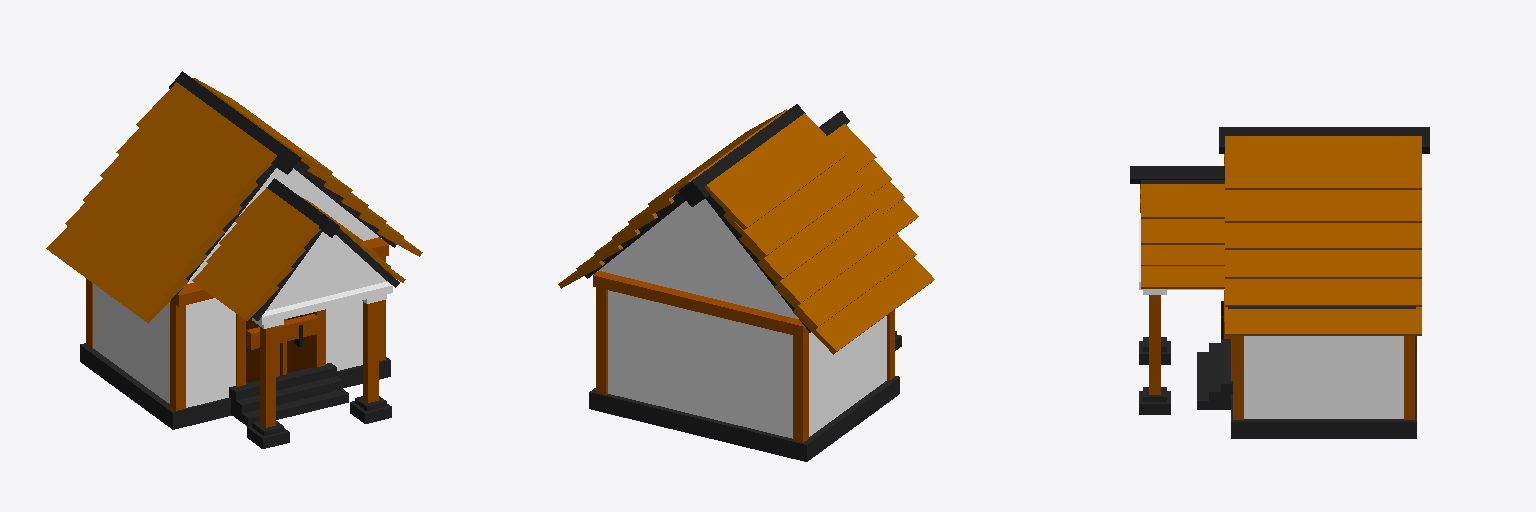
The model's file is dungeon.obj.
3 renders of one model, left to right at view 1: azimuth 30°, elevation 25°; view 2: azimuth 150°, elevation 25°; view 3: azimuth 270°, elevation 25°, orthographic.
Parts seen in each view (by area): view 1: pCube35 group3 group5, pCube22, pCube5, group3 group5 pCube36, group1 pPrism1, group3 group5 pCube40, pCube4, group3 group5 pCube38, pCube26, group3 group5 pCube39, group3 group5 pCube37, pCube35 group3 group6 (+22 smaller); view 2: pCube27, group2 pPrism2, pCube35 group3 group5, pCube26, pCube22, group3 group5 pCube36, group3 group5 pCube40, group3 group5 pCube38, group3 group5 pCube39, group3 group5 pCube37, group2 pCube10, group2 pCube21 (+10 smaller); view 3: pCube25, group5 pCube35 group4, group5 group4 pCube36, group5 group4 pCube38, group5 group4 pCube40, group5 group4 pCube39, group5 group4 pCube37, pCube26, group6 pCube35 group4, pCube4, group6 group4 pCube36, group2 pCube21 (+7 smaller).
Part boxes in pixels (left/top/right/bottom): pCube35 group3 group5: left=136, top=82, right=276, bottom=198; pCube22: left=93, top=284, right=169, bottom=403; pCube5: left=186, top=298, right=235, bottom=407; group3 group5 pCube36: left=116, top=128, right=257, bottom=226; group1 pPrism1: left=266, top=232, right=387, bottom=310; group3 group5 pCube40: left=46, top=226, right=188, bottom=323; pCube4: left=229, top=363, right=348, bottom=426; group3 group5 pCube38: left=83, top=178, right=224, bottom=274; pCube26: left=80, top=343, right=390, bottom=429; group3 group5 pCube39: left=65, top=203, right=206, bottom=298; group3 group5 pCube37: left=100, top=155, right=241, bottom=249; pCube35 group3 group6: left=235, top=187, right=320, bottom=261; pCube27: left=608, top=290, right=792, bottom=438; group2 pPrism2: left=597, top=199, right=798, bottom=318; pCube35 group3 group5: left=705, top=113, right=845, bottom=229; pCube26: left=589, top=376, right=899, bottom=461; pCube22: left=809, top=316, right=886, bottom=436; group3 group5 pCube36: left=723, top=159, right=864, bottom=257; group3 group5 pCube40: left=793, top=258, right=934, bottom=354; group3 group5 pCube38: left=757, top=209, right=898, bottom=304; group3 group5 pCube39: left=774, top=234, right=916, bottom=328; group3 group5 pCube37: left=739, top=186, right=881, bottom=280; group2 pCube10: left=593, top=271, right=808, bottom=337; group2 pCube21: left=678, top=104, right=805, bottom=206; pCube25: left=1244, top=336, right=1403, bottom=418; group5 pCube35 group4: left=1225, top=136, right=1421, bottom=189; group5 group4 pCube36: left=1225, top=190, right=1421, bottom=222; group5 group4 pCube38: left=1225, top=250, right=1421, bottom=278; group5 group4 pCube40: left=1225, top=307, right=1421, bottom=335; group5 group4 pCube39: left=1225, top=279, right=1421, bottom=306; group5 group4 pCube37: left=1225, top=223, right=1421, bottom=249; pCube26: left=1231, top=336, right=1416, bottom=438; group6 pCube35 group4: left=1141, top=184, right=1224, bottom=218; pCube4: left=1197, top=339, right=1232, bottom=409; group6 group4 pCube36: left=1141, top=219, right=1224, bottom=244; group2 pCube21: left=1219, top=127, right=1429, bottom=153.
Size of the model in its own units: 11.16 by 9.94 by 10.4.